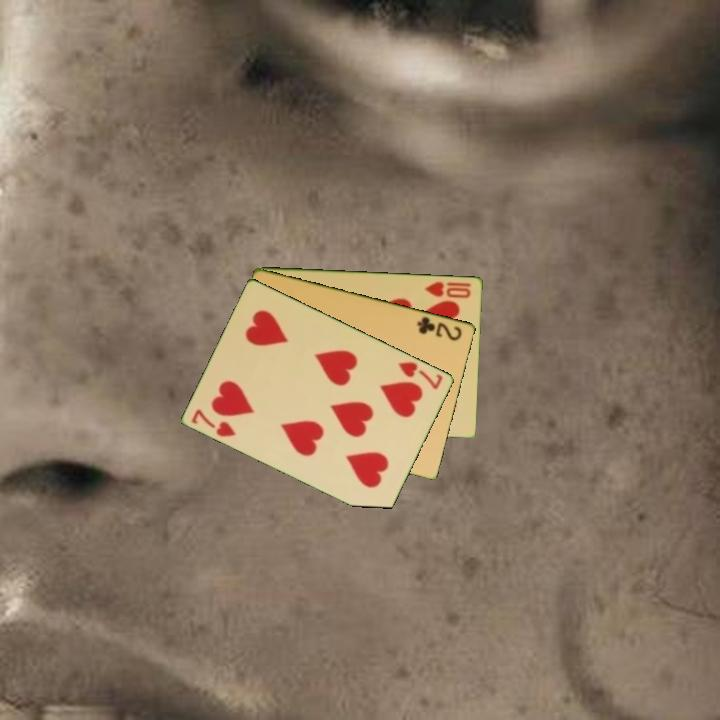10h: (421, 278, 474, 301)
2c: (414, 313, 465, 343)
7h: (188, 405, 239, 440), (395, 358, 446, 392)
